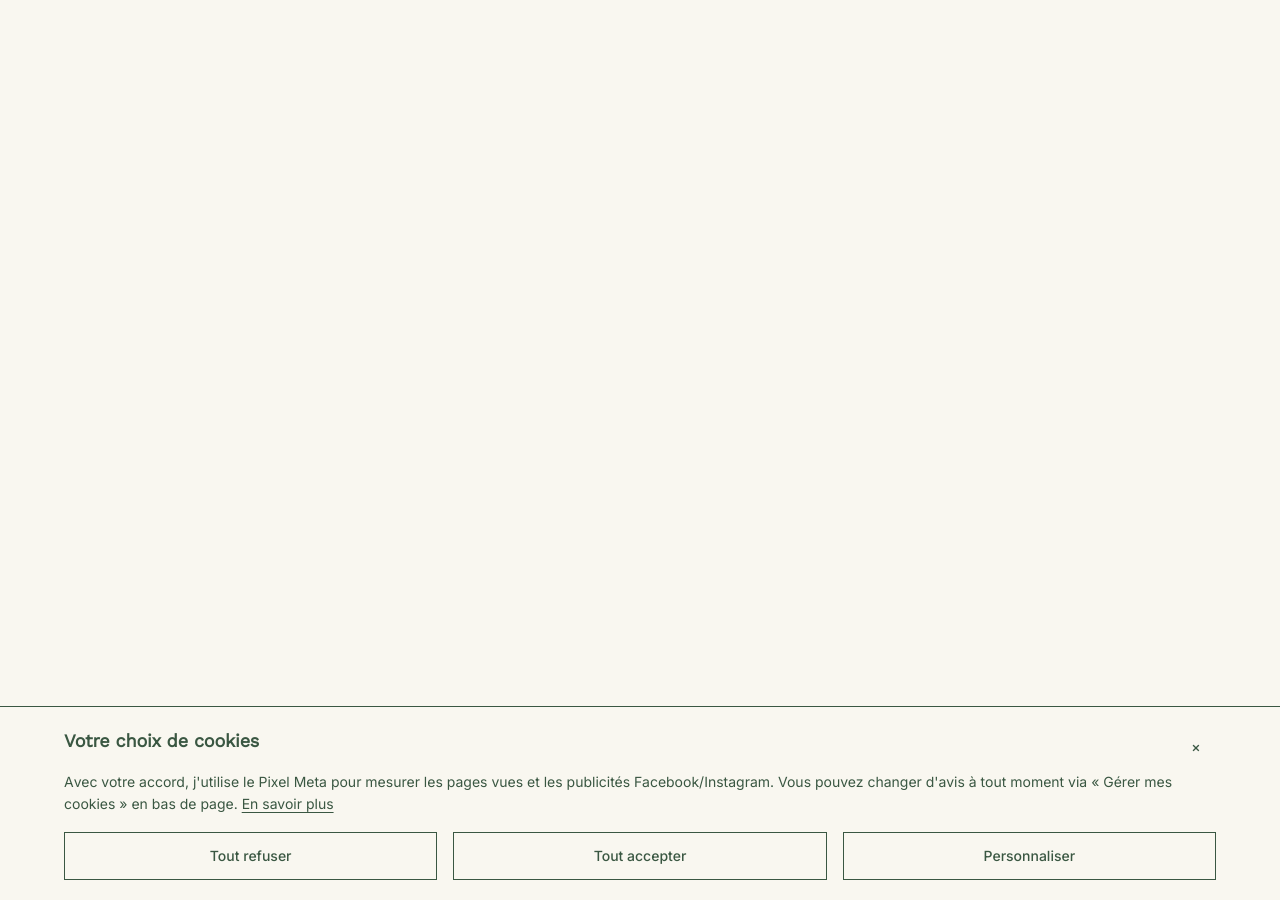
Test: visitor consent choices › customisation starts OFF and saves only the selected purpose
The image size is (1280, 900).
Later steps or results of the test are not shown.
Click the button "Personnaliser" at (1029,856), box [843, 832, 1216, 880]
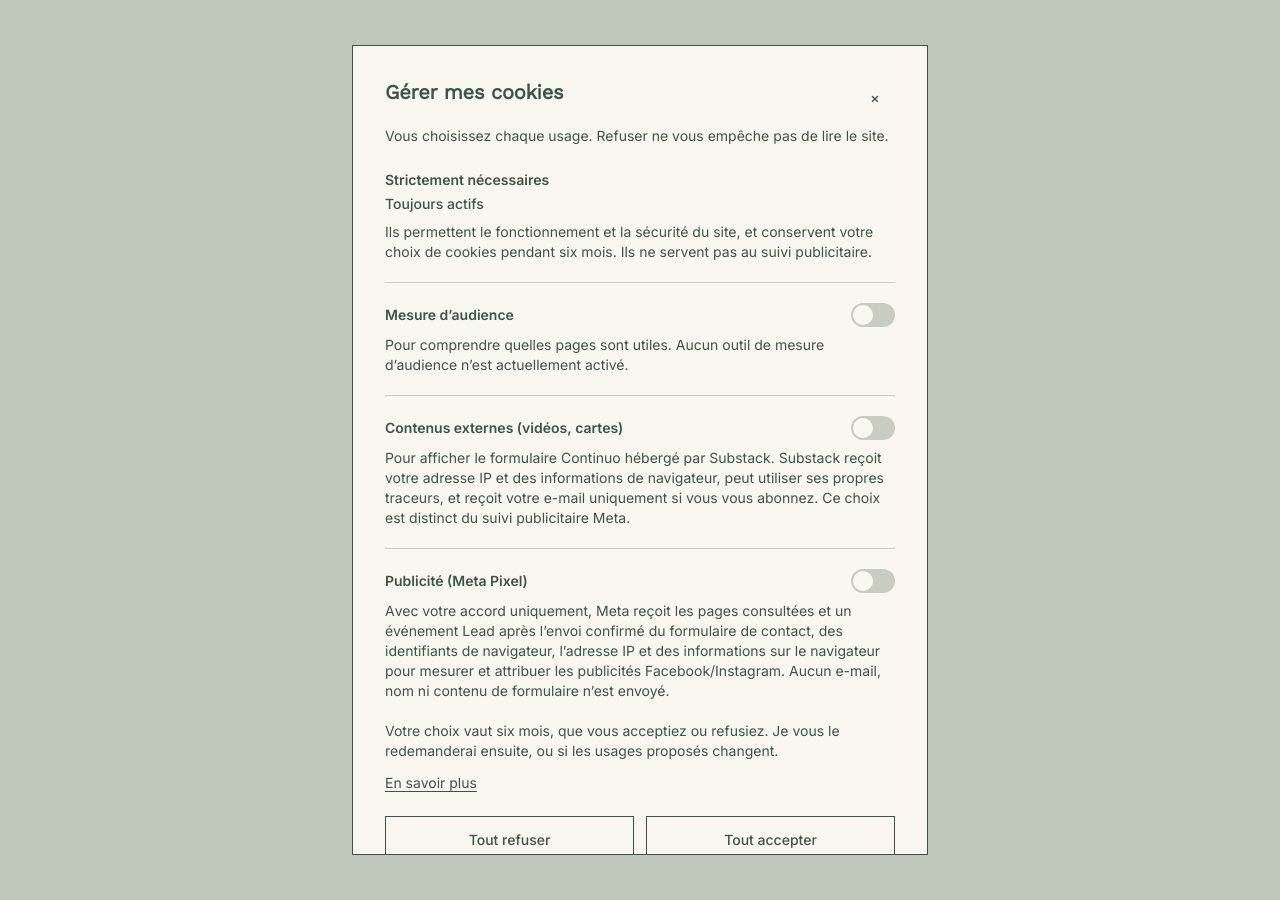
Now the 1st switch named "Mesure d’audience" is not checked, box [851, 303, 895, 327]
Now the switch named "Contenus externes (vidéos, cartes)" in the row of "Contenus externes (vidéos, cartes)" is not checked, box [851, 416, 895, 440]
